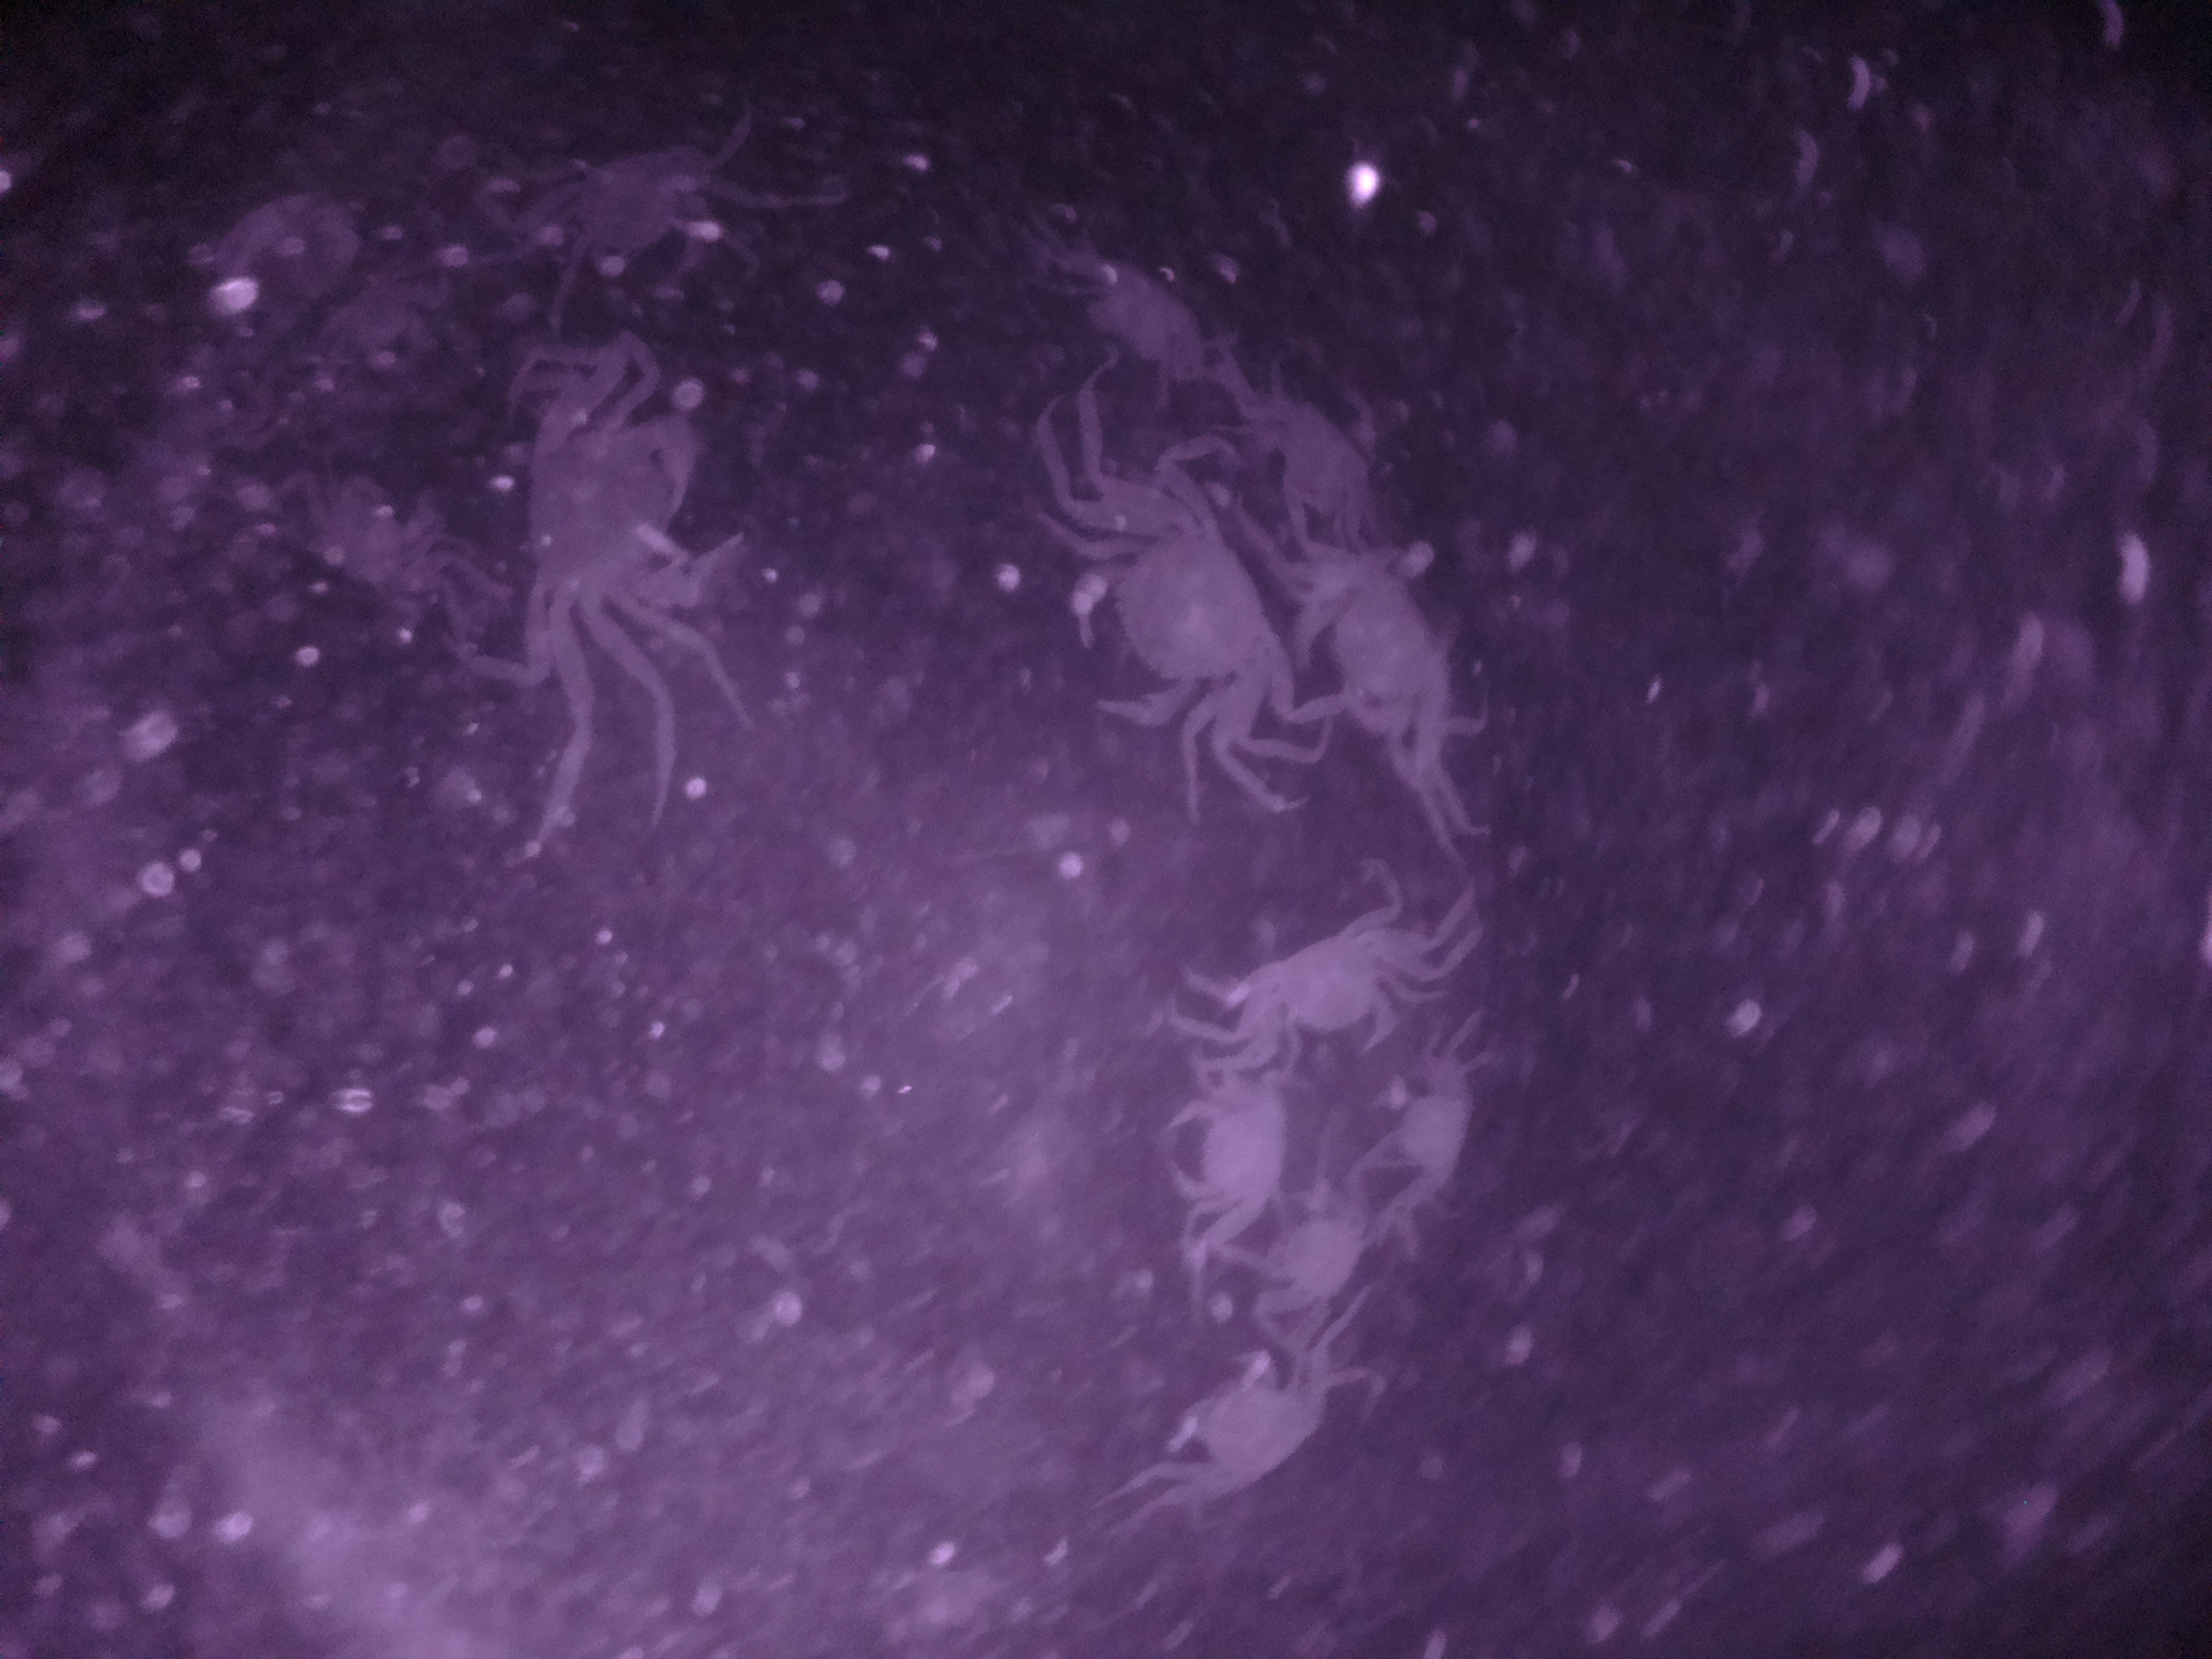Crab: (505, 383, 761, 681), (1049, 493, 1285, 746), (1212, 885, 1437, 1063), (1148, 1056, 1301, 1230), (1372, 1056, 1512, 1232)
